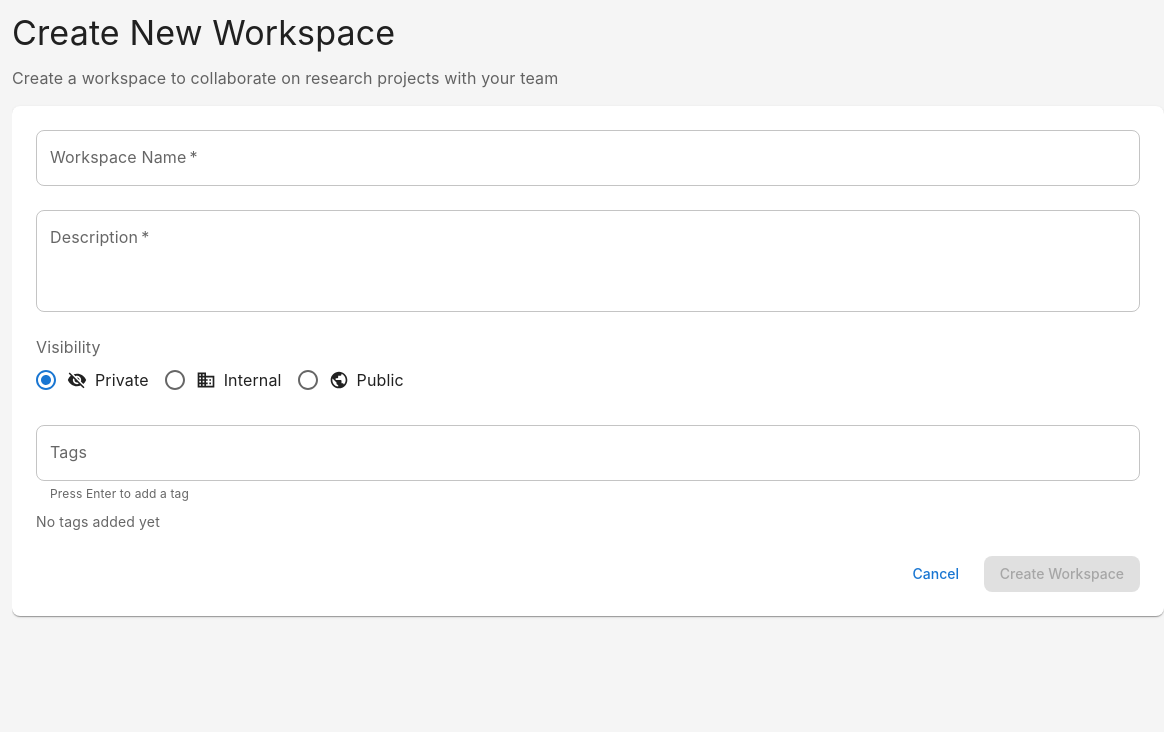
Scenario: CreateWorkspaceForm Component › handles API errors gracefully
Type "Test Workspace" into the field labelled "Workspace Name *" at (588, 158), box [36, 130, 1140, 186]
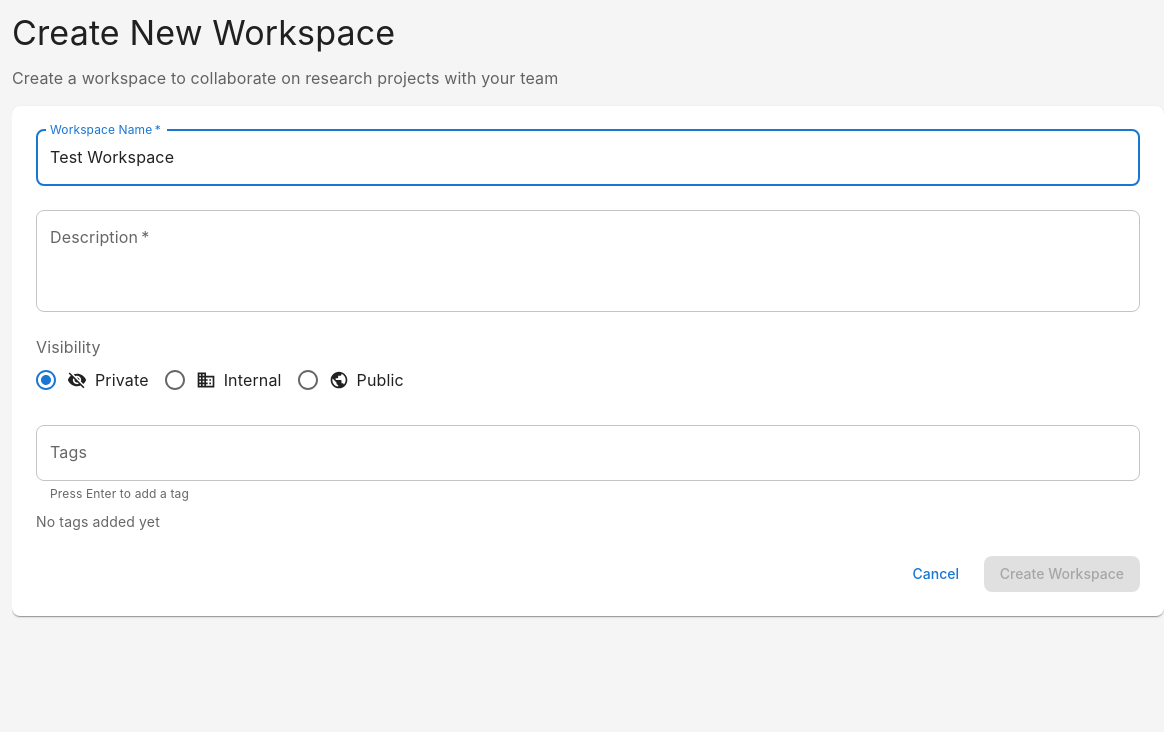
Type "Test Description" into the text box labelled "Description *" at (588, 261), box [50, 226, 1126, 295]
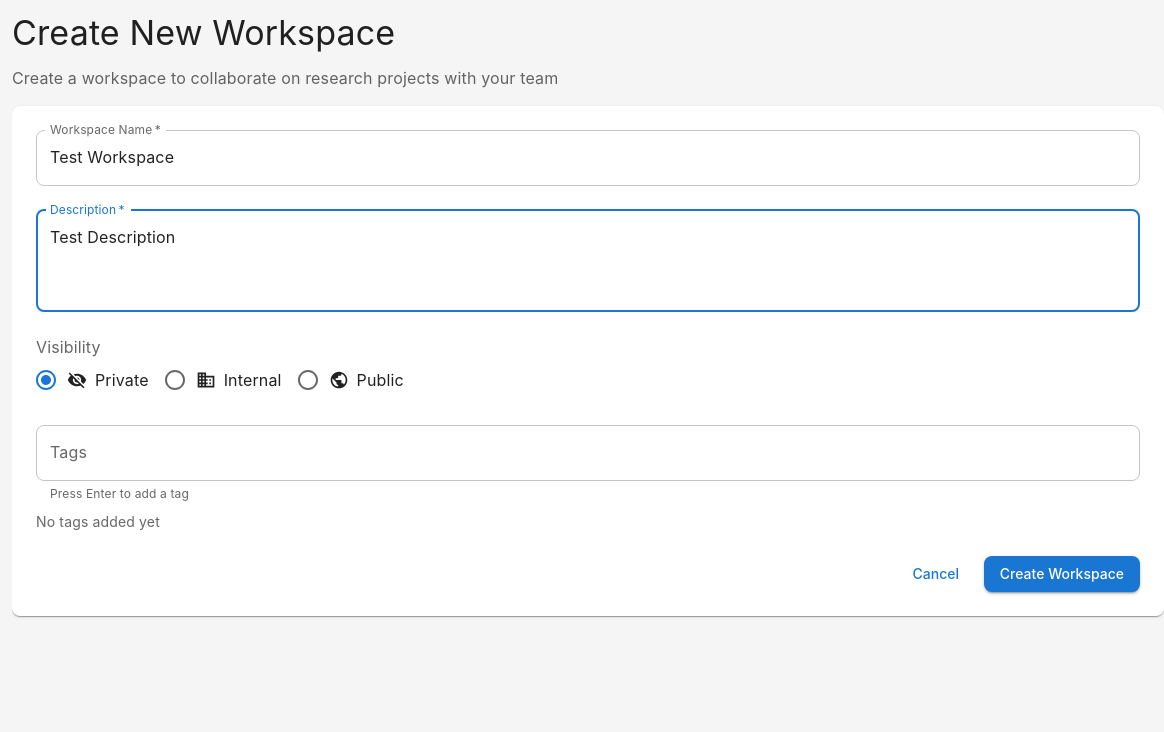
Click the button "Create Workspace" at (1062, 574), box [984, 556, 1140, 592]
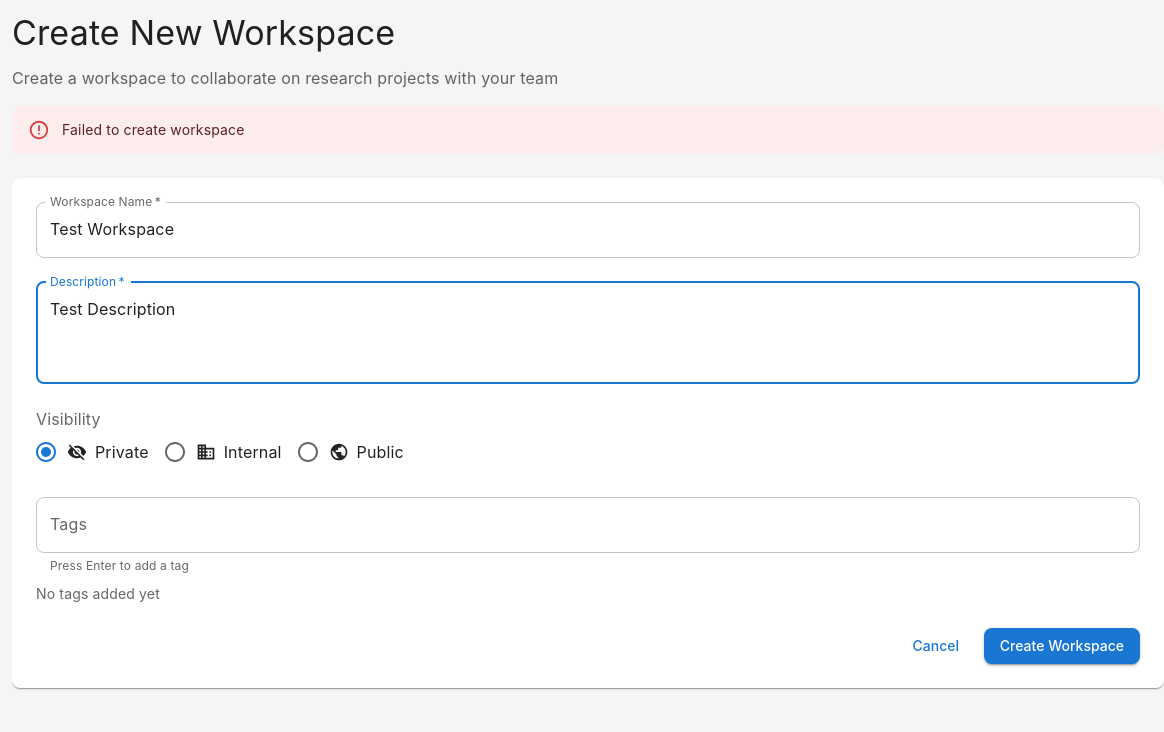
Expected: the text "Failed to create workspace" is shown, [62, 121, 244, 138]
